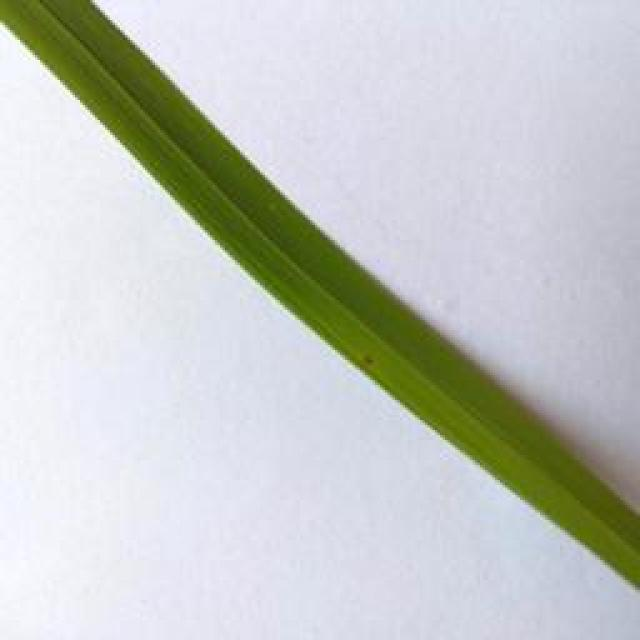Brown_Spot: (348, 349, 387, 377)
